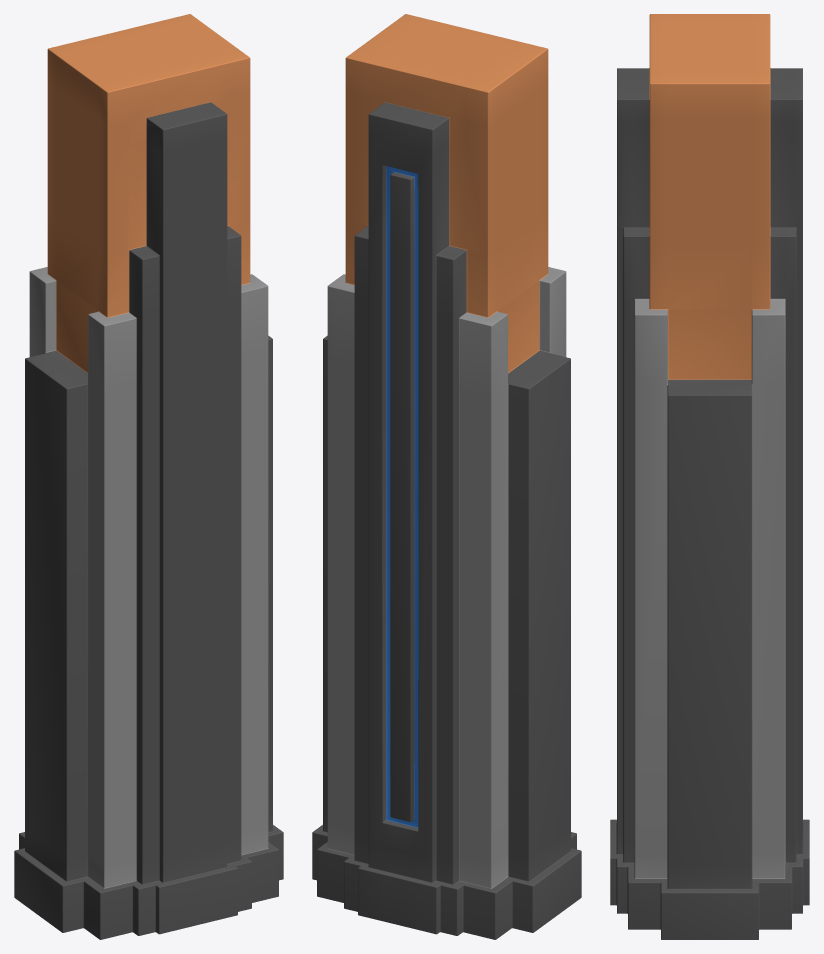
The model's file is SM_GiantPillar_01.FBX.
The picture shows the model from 3 angles, left to right: view 1: azimuth 30°, elevation 25°; view 2: azimuth 150°, elevation 25°; view 3: azimuth 270°, elevation 25°; orthographic projection.
Visible parts, largest first — view 1: GiantPillar; view 2: GiantPillar; view 3: GiantPillar.
Boxes of the visible parts, <box> form: GiantPillar: <box>14,14,283,939</box>; GiantPillar: <box>312,14,581,939</box>; GiantPillar: <box>610,14,809,939</box>.
Bounding box in the file's own units: 491 × 1773 × 383.
